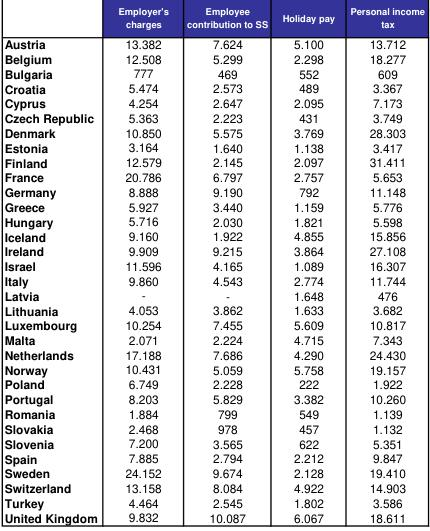table: (3, 4, 423, 525)
table column: (3, 4, 107, 525), (176, 4, 274, 525), (341, 4, 423, 525), (107, 4, 176, 525), (274, 4, 341, 525)
table column header: (3, 4, 423, 32)
table row: (3, 4, 423, 32), (3, 32, 423, 50), (3, 509, 423, 525), (3, 50, 423, 65), (3, 65, 423, 80), (3, 80, 423, 95), (3, 109, 423, 124), (3, 124, 423, 139), (3, 139, 423, 154), (3, 154, 423, 169), (3, 183, 423, 198), (3, 198, 423, 213), (3, 213, 423, 228), (3, 228, 423, 243), (3, 257, 423, 272), (3, 272, 423, 287), (3, 287, 423, 302), (3, 302, 423, 317), (3, 331, 423, 346), (3, 346, 423, 361), (3, 361, 423, 376), (3, 376, 423, 391), (3, 405, 423, 420), (3, 420, 423, 435), (3, 435, 423, 450), (3, 450, 423, 465), (3, 479, 423, 494), (3, 494, 423, 509), (3, 95, 423, 109), (3, 169, 423, 183), (3, 243, 423, 257), (3, 317, 423, 331), (3, 391, 423, 405), (3, 465, 423, 479)
